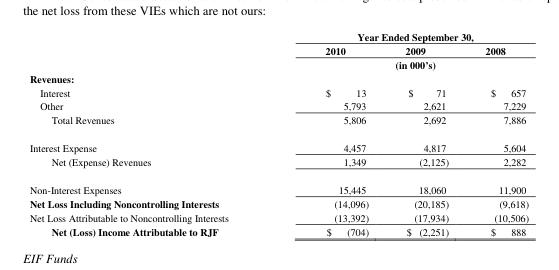table: (29, 29, 528, 238)
table column: (29, 29, 276, 238), (276, 29, 386, 238), (386, 29, 466, 238), (466, 29, 528, 238)
table column header: (29, 29, 528, 71)
table projected row header: (29, 71, 528, 85)
table row: (29, 174, 528, 196), (29, 112, 528, 133), (29, 153, 528, 174), (29, 133, 528, 153), (29, 29, 528, 43), (29, 43, 528, 57), (29, 57, 528, 71), (29, 71, 528, 85), (29, 98, 528, 112), (29, 196, 528, 210), (29, 210, 528, 224), (29, 224, 528, 238), (29, 85, 528, 98)
table spanning cell: (276, 29, 528, 43), (276, 57, 528, 71)
